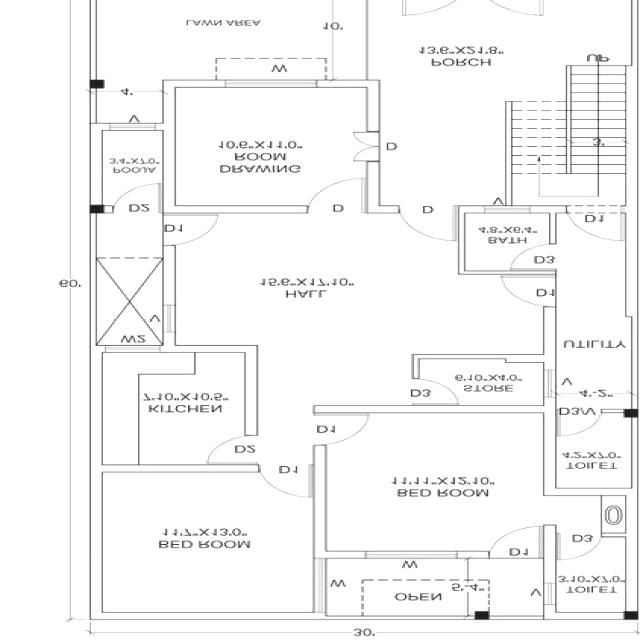Blueprint: (63, 0, 640, 630)
column: (470, 609, 494, 621), (620, 608, 640, 622), (620, 407, 640, 419), (88, 78, 108, 90), (88, 203, 108, 214)
wall: (538, 394, 640, 614), (404, 304, 562, 384), (88, 210, 109, 616), (620, 0, 640, 411), (310, 443, 369, 562), (88, 610, 478, 622), (309, 403, 547, 417), (97, 460, 263, 476), (160, 76, 178, 208), (237, 359, 264, 440), (88, 86, 106, 206), (540, 602, 628, 625), (160, 203, 314, 214), (160, 244, 182, 308), (172, 342, 266, 356), (540, 521, 560, 586), (363, 157, 382, 215), (463, 267, 560, 278), (455, 203, 469, 277), (364, 84, 383, 134), (314, 78, 384, 88), (172, 78, 228, 89), (157, 330, 180, 354), (454, 549, 495, 562), (526, 205, 570, 216), (548, 211, 560, 247), (463, 204, 488, 215)
